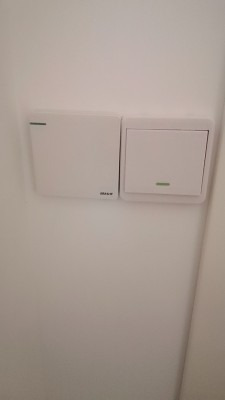switch: (122, 124, 210, 199)
